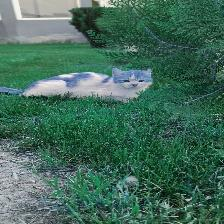kedo: (25, 67, 152, 102)
